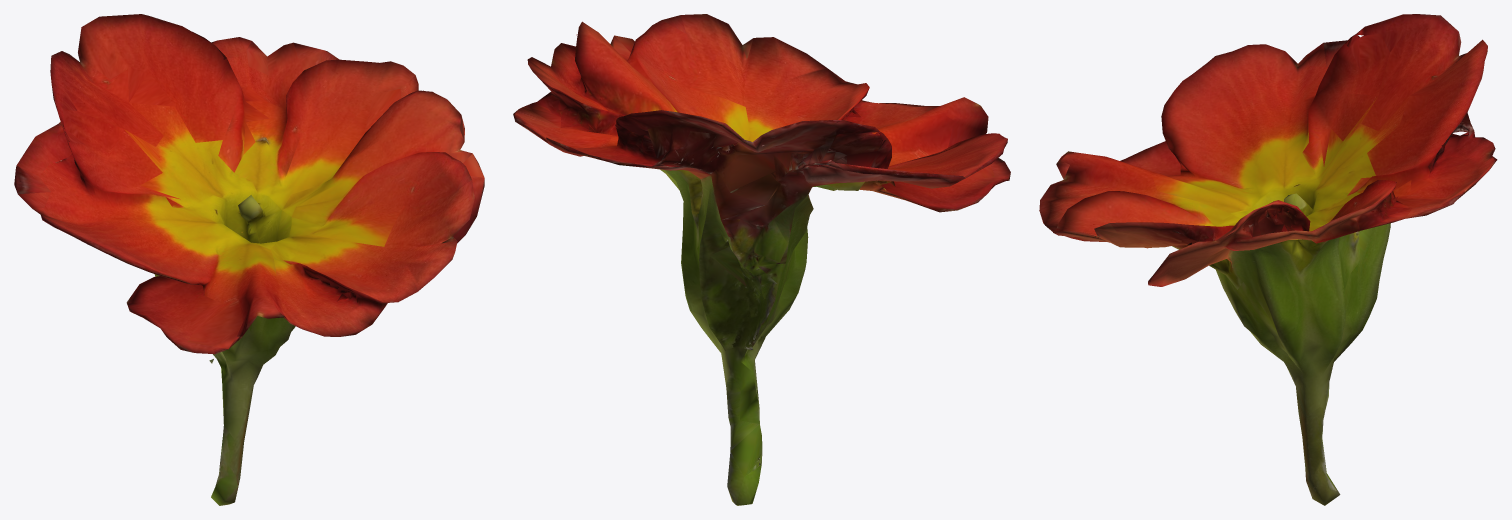
The model's file is new_primula-v2-transformed.glb.
3 views of the same model, side by side, from view 1: azimuth 30°, elevation 25°; view 2: azimuth 150°, elevation 25°; view 3: azimuth 270°, elevation 25° (orthographic). The views are drawn at different scales.
Visible parts, largest first — view 1: flower1; view 2: flower1; view 3: flower1.
Boxes of the visible parts, x1,y1,x2,y2 form: flower1: (14, 14, 484, 505); flower1: (513, 14, 1010, 505); flower1: (1039, 14, 1497, 505).
Size of the model in its own units: 3.87 by 3.98 by 3.79.
Materials: 1 (1 with a texture image).
